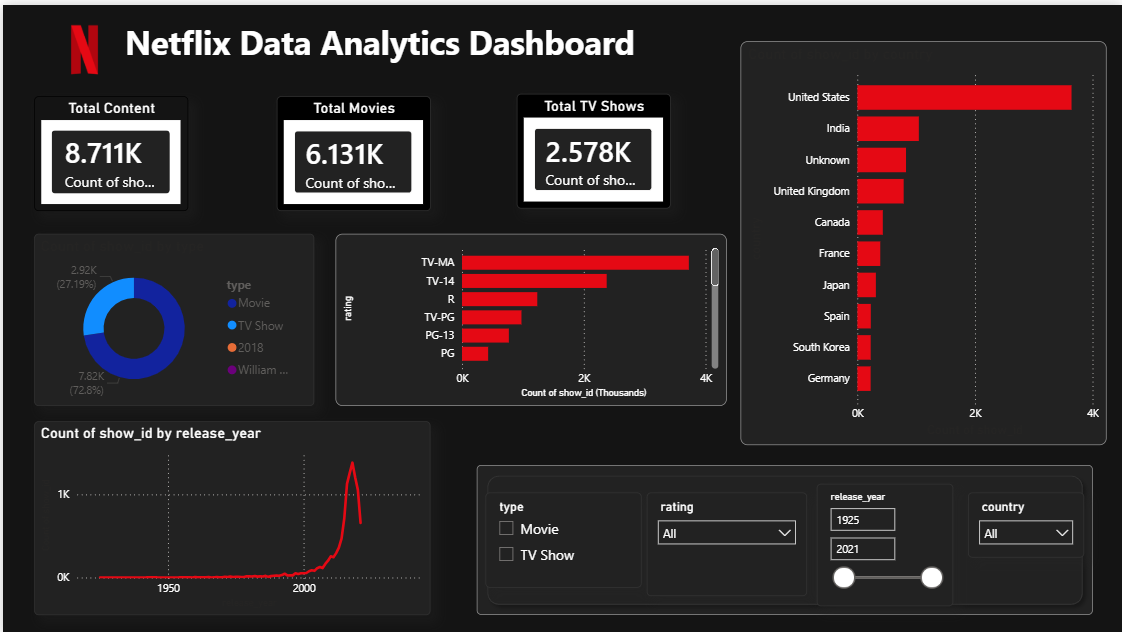

What the dashboard file says about the page in this screenshot:
{"tool":"powerbi","page":{"name":"Page 1","canvas":[1280,720],"ordinal":0},"visuals":[{"type":"shape","box":[541.4,525.7,704.3,171.4],"z":0},{"type":"cardVisual","title":"Total Content","fields":{"Data":["Count(cleaned_netflix_data.show_id)"]},"box":[35.7,104.3,175.7,131.4],"z":1000},{"type":"cardVisual","title":"Total Movies","fields":{"Data":["Count(cleaned_netflix_data.show_id)"]},"box":[312.9,104.3,175.7,131.4],"z":2000},{"type":"donutChart","fields":{"Category":["cleaned_netflix_data.type"],"Y":["CountNonNull(cleaned_netflix_data.show_id)"]},"box":[35.7,261.4,320,197.1],"z":3000},{"type":"clusteredBarChart","fields":{"Category":["cleaned_netflix_data.country"],"Y":["CountNonNull(cleaned_netflix_data.show_id)"]},"box":[842.9,41.4,418.6,461.4],"z":4000},{"type":"lineChart","fields":{"Category":["cleaned_netflix_data.release_year"],"Y":["CountNonNull(cleaned_netflix_data.show_id)"]},"box":[35.7,475.7,452.9,221.4],"z":5000},{"type":"clusteredBarChart","fields":{"Category":["cleaned_netflix_data.rating"],"Y":["CountNonNull(cleaned_netflix_data.show_id)"]},"box":[380,261.4,447.1,197.1],"z":6000},{"type":"slicer","fields":{"Values":["cleaned_netflix_data.type"]},"box":[551.4,557.1,178.6,108.6],"z":7000},{"type":"slicer","fields":{"Values":["cleaned_netflix_data.country"]},"box":[1102.9,557.1,132.9,74.3],"z":8000},{"type":"slicer","fields":{"Values":["cleaned_netflix_data.rating"]},"box":[735.7,557.1,182.9,118.6],"z":9000},{"type":"slicer","fields":{"Values":["cleaned_netflix_data.release_year"]},"box":[930,547.1,155.7,140],"z":10000},{"type":"textbox","box":[114.3,12.9,632.9,91.4],"z":11000},{"type":"cardVisual","title":"Total TV Shows","fields":{"Data":["Count(cleaned_netflix_data.show_id)"]},"box":[587.1,101.4,175.7,131.4],"z":12000},{"type":"image","box":[0,0,186,102],"z":12001}]}

Visuals, with their boxes in screenshot pixels (x1, y1, x2, y2), scaled from the page's 1280x720 canvas onto the 1122x632 screenshot:
shape: [475,461,1092,612]
"Total Content" cardVisual: [31,92,185,207]
"Total Movies" cardVisual: [274,92,428,207]
donutChart - cleaned_netflix_data.type x CountNonNull(cleaned_netflix_data.show_id): [31,229,312,402]
clusteredBarChart - cleaned_netflix_data.country x CountNonNull(cleaned_netflix_data.show_id): [739,36,1106,441]
lineChart - cleaned_netflix_data.release_year x CountNonNull(cleaned_netflix_data.show_id): [31,418,428,612]
clusteredBarChart - cleaned_netflix_data.rating x CountNonNull(cleaned_netflix_data.show_id): [333,229,725,402]
slicer - cleaned_netflix_data.type: [483,489,640,584]
slicer - cleaned_netflix_data.country: [967,489,1083,554]
slicer - cleaned_netflix_data.rating: [645,489,805,593]
slicer - cleaned_netflix_data.release_year: [815,480,952,603]
textbox: [100,11,655,92]
"Total TV Shows" cardVisual: [515,89,669,204]
image: [0,0,163,90]
